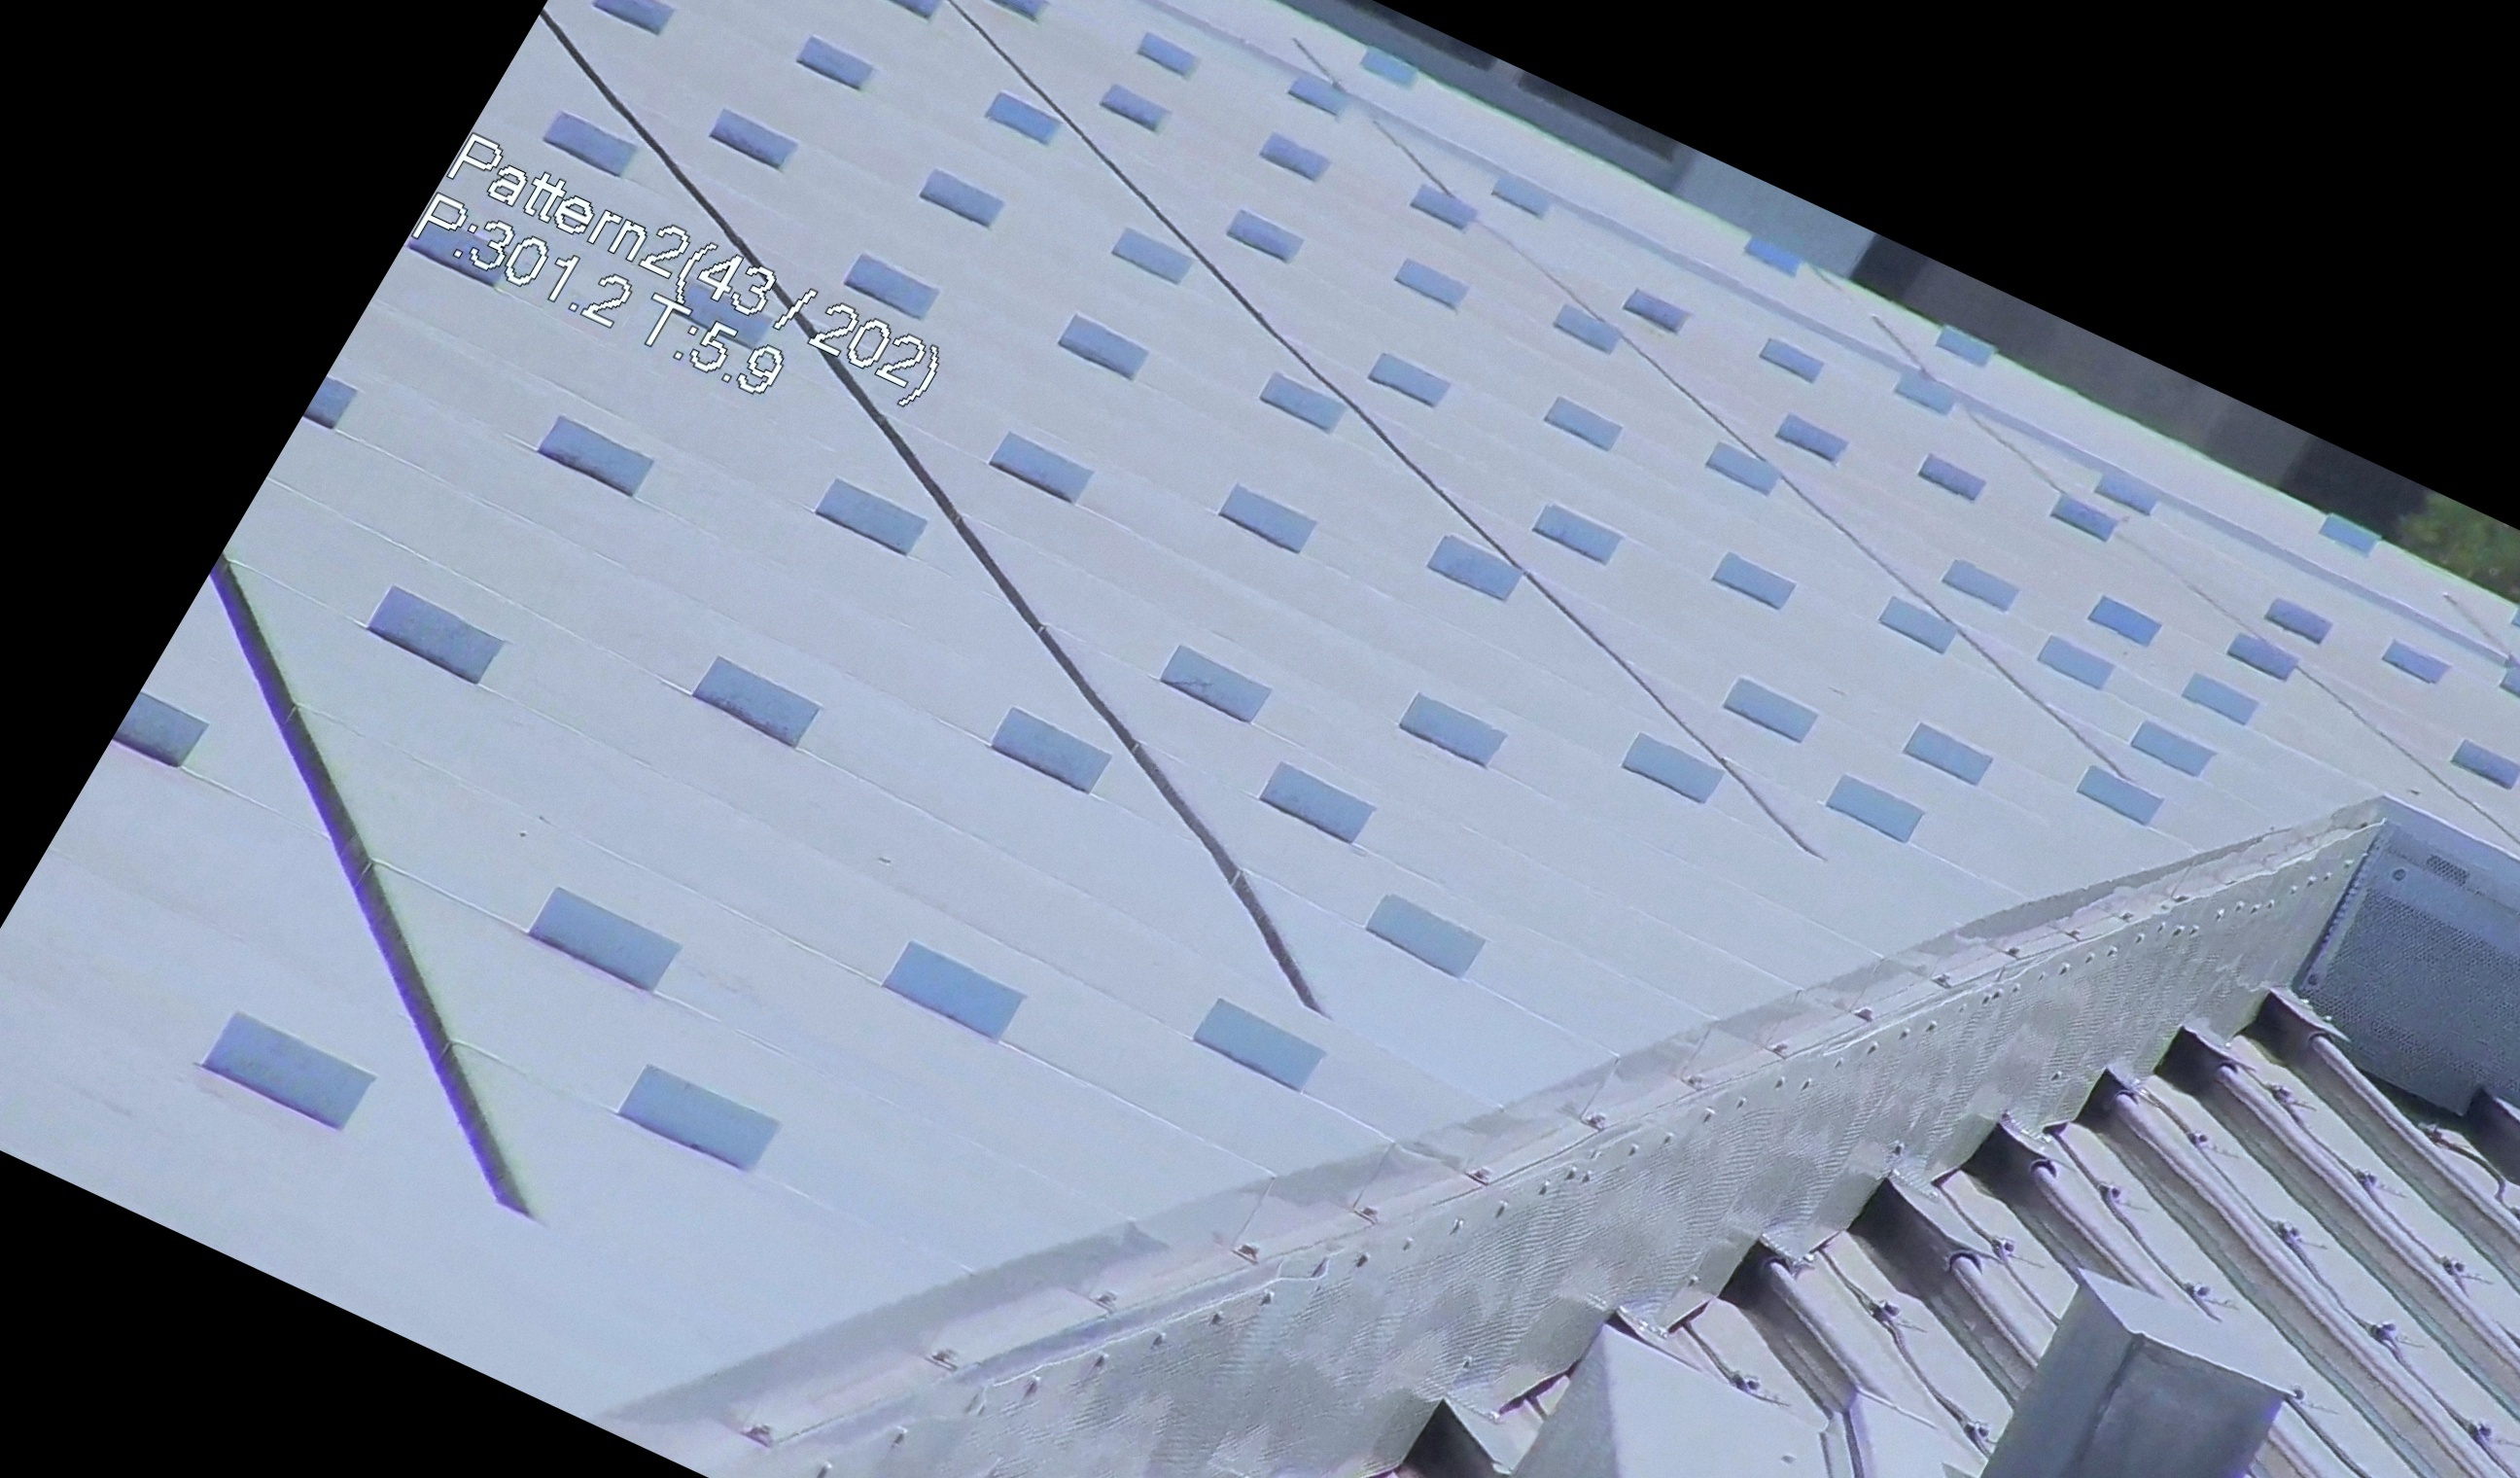Other: (1127, 1445, 1356, 1478)
